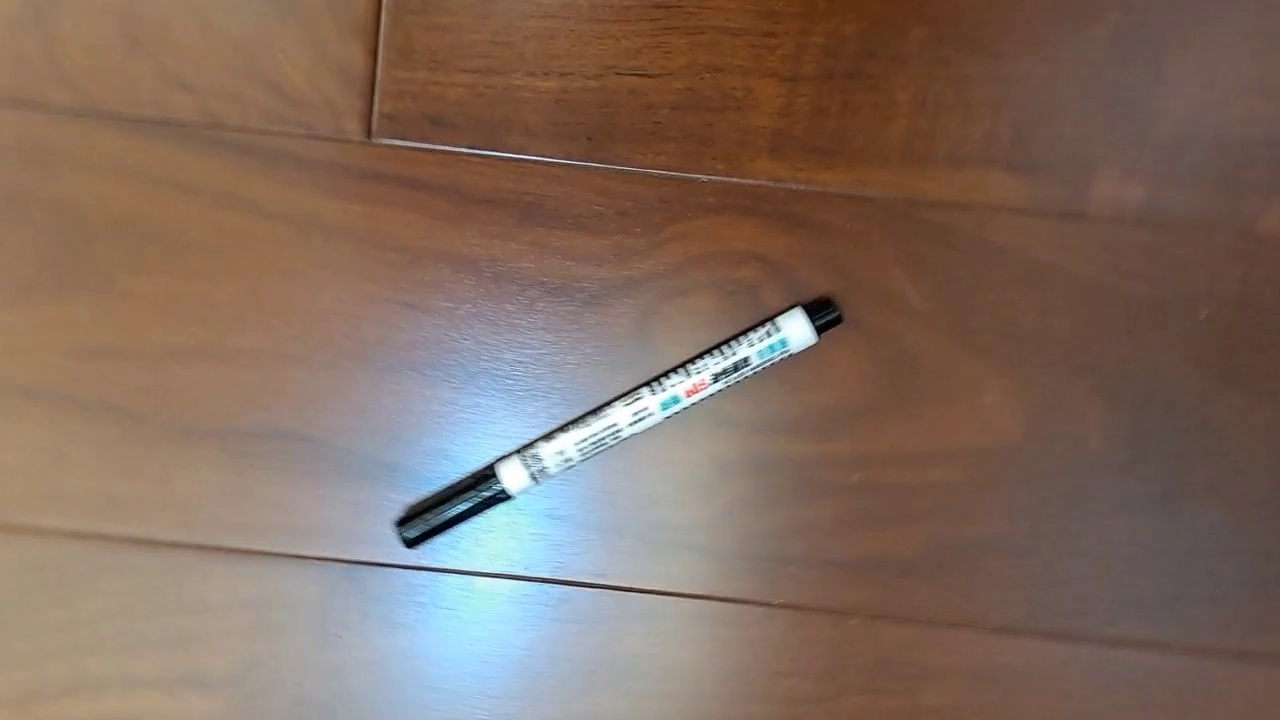pen: (395, 294, 845, 549)
